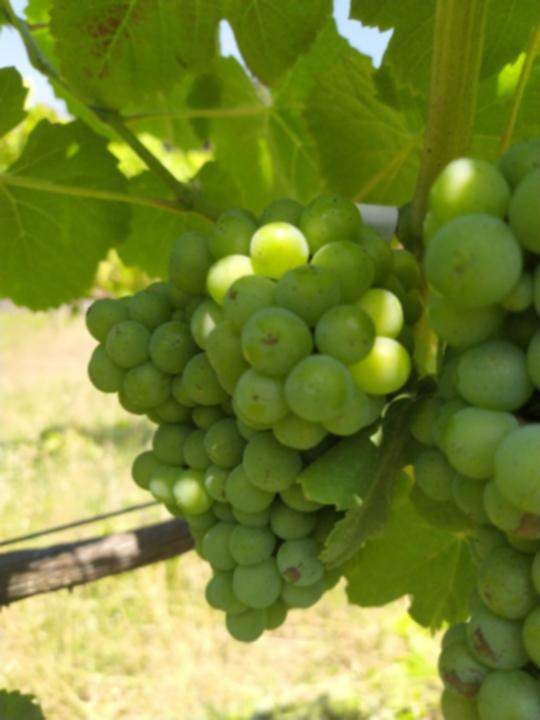grape: (85, 190, 425, 644)
